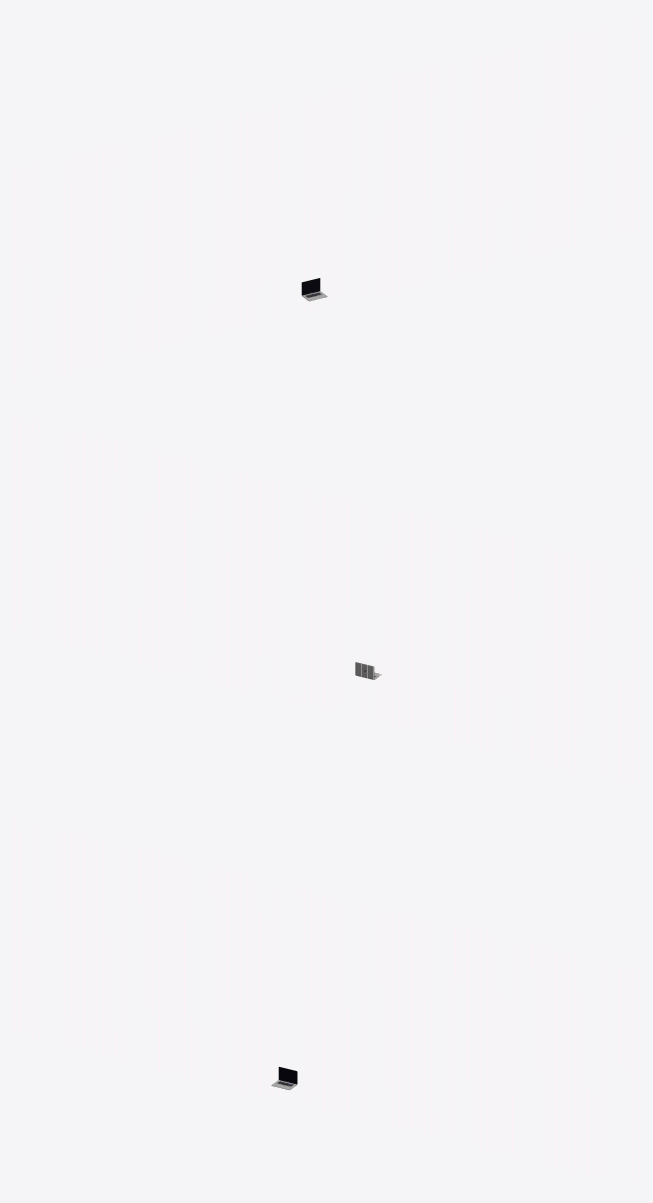
File: mac.glb
The picture shows the model from 3 angles, top to bottom: view 1: azimuth 30°, elevation 25°; view 2: azimuth 150°, elevation 25°; view 3: azimuth 330°, elevation 25°; orthographic projection.
Size of the model in its own units: 33.6 by 11.31 by 1.78.
Materials: 2 (1 with a texture image).
